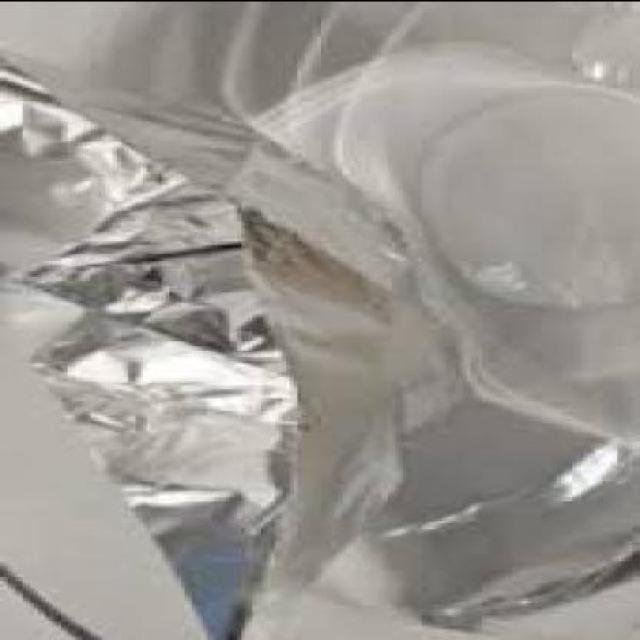METAL: (0, 0, 637, 638)
